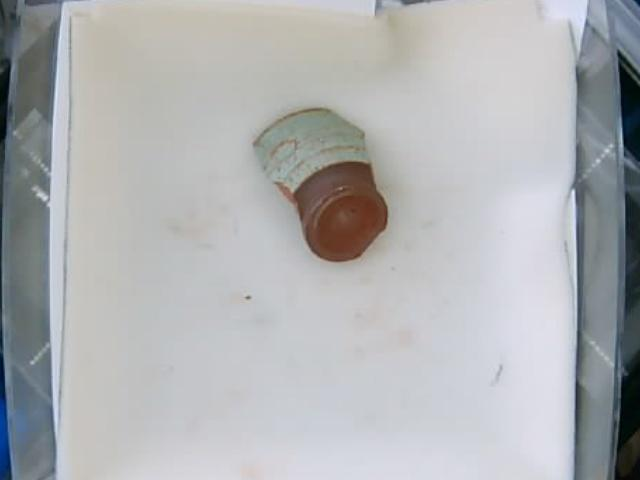China: (255, 108, 388, 257)
